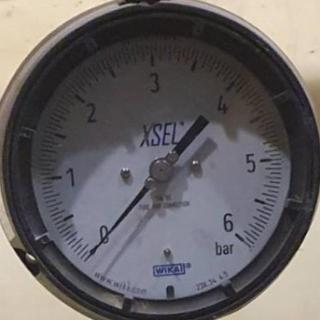gauge: (0, 0, 320, 320), (80, 225, 114, 263), (148, 156, 176, 184), (223, 218, 247, 248), (84, 243, 100, 260)
